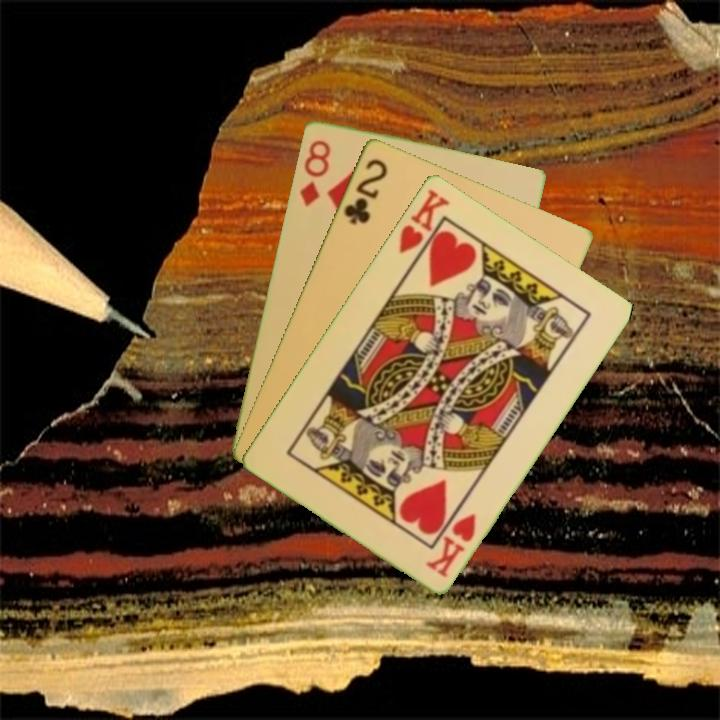2c: (339, 154, 390, 227)
8d: (296, 136, 333, 209)
Kh: (395, 184, 453, 268), (422, 508, 479, 580)
